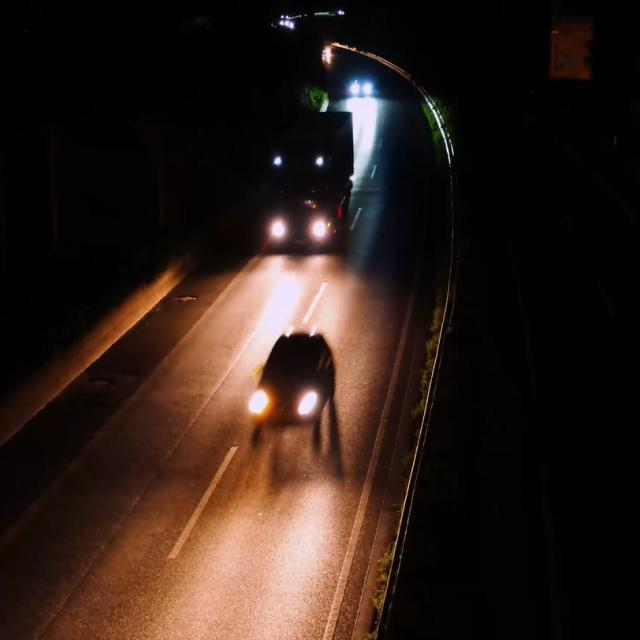car: (246, 331, 336, 436), (350, 72, 373, 100)
truck: (267, 110, 354, 248)
